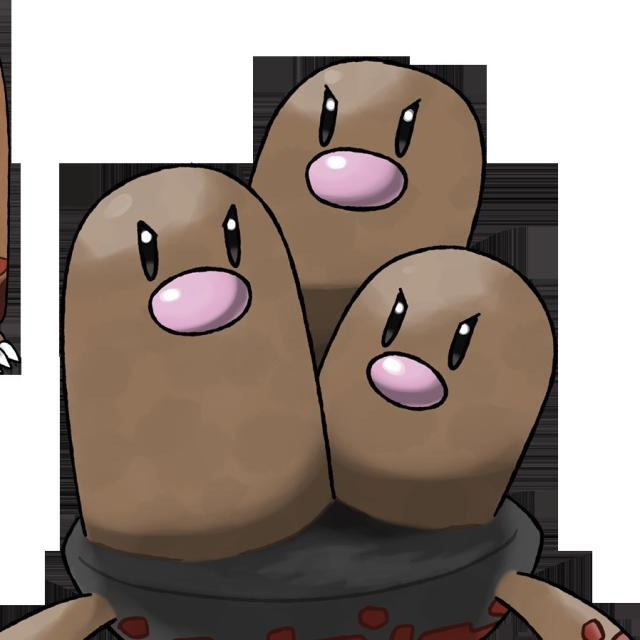Dugtrio: (67, 65, 562, 551)
